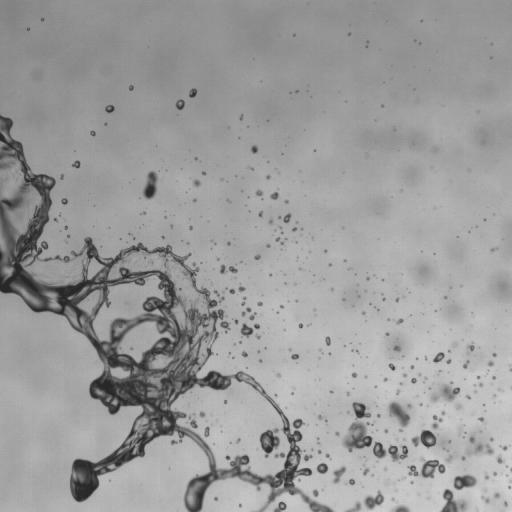droplet: (439, 488, 466, 511), (411, 429, 436, 448), (452, 474, 477, 490), (431, 414, 443, 429), (316, 462, 328, 474), (272, 501, 286, 511), (432, 352, 444, 363), (8, 128, 19, 139), (29, 164, 40, 175), (13, 172, 24, 183), (136, 177, 147, 188), (2, 188, 13, 199), (48, 188, 59, 199), (74, 240, 85, 251), (173, 245, 184, 256), (97, 247, 108, 258), (386, 321, 397, 332), (229, 323, 240, 334), (457, 348, 468, 359), (451, 357, 462, 368), (415, 360, 426, 371), (475, 362, 486, 373), (90, 367, 101, 378), (464, 368, 475, 379), (389, 370, 400, 381), (438, 374, 449, 385), (386, 379, 397, 390), (482, 383, 493, 394), (479, 385, 490, 396), (436, 397, 447, 408), (443, 400, 454, 411), (430, 402, 441, 413), (375, 417, 386, 428), (339, 426, 350, 437), (115, 431, 126, 442), (157, 433, 168, 444), (475, 433, 486, 444), (333, 436, 344, 447), (424, 448, 435, 459), (88, 452, 99, 463), (405, 453, 416, 464), (306, 458, 317, 469), (62, 465, 73, 476), (291, 475, 302, 486), (496, 476, 507, 487), (243, 481, 254, 492), (486, 481, 497, 492), (259, 482, 270, 493), (203, 487, 214, 498), (451, 489, 462, 500), (279, 491, 290, 502), (381, 499, 392, 510), (175, 99, 185, 110), (501, 489, 511, 500), (456, 424, 465, 436), (466, 341, 474, 354), (498, 444, 511, 451), (255, 189, 263, 200), (503, 450, 511, 461), (154, 180, 163, 189), (262, 188, 271, 197), (47, 207, 56, 216), (257, 246, 266, 255), (233, 291, 242, 300), (385, 292, 394, 301), (246, 298, 255, 307), (254, 339, 263, 348), (458, 342, 467, 351), (232, 346, 241, 355), (196, 369, 205, 378), (432, 384, 441, 393), (454, 393, 463, 402), (420, 394, 429, 403), (133, 404, 142, 413), (380, 406, 389, 415), (348, 413, 357, 422), (390, 415, 399, 424), (448, 430, 457, 439), (363, 445, 372, 454), (493, 446, 502, 455), (102, 447, 111, 456), (195, 447, 204, 456), (478, 451, 487, 460), (403, 456, 412, 465), (122, 460, 131, 469), (327, 462, 336, 471), (495, 463, 504, 472), (200, 465, 209, 474), (324, 469, 333, 478), (340, 472, 349, 481), (64, 491, 73, 500), (315, 495, 324, 504), (396, 497, 405, 506), (480, 495, 490, 503), (344, 478, 355, 485), (105, 105, 114, 113), (238, 282, 245, 292), (505, 435, 511, 446), (505, 490, 511, 501), (300, 505, 311, 511), (371, 505, 382, 511), (462, 505, 473, 511), (250, 145, 258, 153), (72, 160, 80, 168), (193, 179, 201, 187), (189, 88, 196, 97), (462, 360, 469, 369), (303, 454, 312, 461), (270, 192, 278, 199), (393, 345, 401, 352), (388, 363, 396, 370), (204, 426, 209, 437), (0, 237, 5, 248), (183, 87, 190, 94), (183, 95, 190, 102), (22, 148, 29, 155), (25, 158, 32, 165), (14, 161, 21, 168), (197, 174, 204, 181), (248, 189, 255, 196), (277, 193, 284, 200), (166, 216, 173, 223), (57, 219, 64, 226), (287, 220, 294, 227), (42, 223, 49, 230), (34, 239, 41, 246), (159, 240, 166, 247), (39, 251, 46, 258), (224, 269, 231, 276), (6, 291, 13, 298), (208, 292, 215, 299), (250, 304, 257, 311), (365, 305, 372, 312), (40, 310, 47, 317), (57, 314, 64, 321), (246, 320, 253, 327), (228, 321, 235, 328), (215, 324, 222, 331), (84, 339, 91, 346), (237, 344, 244, 351), (322, 344, 329, 351), (89, 346, 96, 353), (234, 351, 241, 358), (408, 370, 415, 377), (376, 379, 383, 386), (83, 381, 90, 388), (273, 396, 280, 403), (94, 398, 101, 405), (411, 399, 418, 406), (101, 405, 108, 412), (118, 405, 125, 412), (401, 406, 408, 413), (359, 416, 366, 423), (407, 418, 414, 425), (424, 423, 431, 430), (288, 425, 295, 432), (297, 425, 304, 432), (414, 429, 421, 436), (171, 431, 178, 438), (473, 437, 480, 444), (489, 441, 496, 448), (406, 442, 413, 449), (469, 442, 476, 449), (143, 443, 150, 450), (382, 443, 389, 450), (500, 450, 507, 457), (384, 452, 391, 459), (80, 453, 87, 460), (489, 453, 496, 460), (133, 455, 140, 462), (322, 457, 329, 464), (66, 459, 73, 466), (309, 464, 316, 471), (415, 464, 422, 471), (326, 467, 333, 474), (457, 469, 464, 476), (188, 471, 195, 478), (416, 474, 423, 481), (232, 475, 239, 482), (180, 482, 187, 489), (248, 483, 255, 490), (447, 483, 454, 490), (91, 489, 98, 496), (369, 490, 376, 497), (486, 491, 493, 498), (293, 493, 300, 500), (308, 493, 315, 500), (274, 495, 281, 502), (358, 496, 365, 503), (496, 497, 503, 504), (439, 498, 446, 505), (271, 500, 278, 507), (347, 501, 354, 508), (390, 501, 397, 508), (395, 318, 403, 324), (325, 336, 330, 345), (199, 506, 208, 511), (359, 506, 368, 511), (61, 198, 67, 205), (241, 350, 247, 357), (487, 360, 494, 366), (268, 217, 273, 225), (291, 354, 299, 359), (452, 341, 458, 347), (351, 372, 357, 378), (411, 377, 417, 383), (395, 389, 401, 395), (406, 403, 412, 409), (199, 411, 205, 417), (494, 492, 500, 498), (505, 505, 511, 511), (258, 210, 263, 217), (484, 472, 489, 479), (90, 130, 95, 136), (254, 254, 260, 259), (298, 323, 303, 329), (255, 333, 260, 339), (446, 358, 451, 364), (275, 372, 281, 377), (465, 394, 471, 399), (440, 410, 446, 415), (236, 437, 241, 443), (0, 168, 4, 175), (507, 445, 511, 452), (507, 499, 511, 506), (181, 507, 188, 511), (236, 507, 243, 511), (53, 217, 58, 222), (257, 301, 262, 306), (482, 487, 487, 492), (182, 105, 187, 110), (172, 106, 177, 111), (2, 112, 7, 117), (246, 146, 251, 151), (256, 147, 261, 152), (247, 149, 252, 154), (252, 152, 257, 157), (152, 167, 157, 172), (40, 169, 45, 174), (19, 171, 24, 176), (46, 171, 51, 176), (54, 176, 59, 181), (2, 180, 7, 185), (188, 180, 193, 185), (197, 184, 202, 189), (191, 185, 196, 190), (252, 186, 257, 191), (259, 186, 264, 191), (269, 188, 274, 193), (270, 198, 275, 203), (280, 212, 285, 217), (288, 216, 293, 221), (278, 218, 283, 223), (295, 223, 300, 228), (295, 228, 300, 233), (63, 229, 68, 234), (275, 231, 280, 236), (85, 232, 90, 237), (91, 239, 96, 244), (80, 240, 85, 245), (142, 241, 147, 246), (126, 242, 131, 247), (147, 245, 152, 250), (74, 248, 79, 253), (171, 248, 176, 253), (50, 252, 55, 257), (37, 253, 42, 258), (68, 253, 73, 258), (110, 253, 115, 258), (183, 259, 188, 264), (218, 259, 223, 264), (224, 265, 229, 270), (215, 266, 220, 271), (369, 275, 374, 280), (196, 284, 201, 289), (233, 286, 238, 291), (208, 287, 213, 292), (224, 289, 229, 294), (240, 290, 245, 295), (257, 296, 262, 301), (244, 302, 249, 307), (212, 305, 217, 310), (241, 305, 246, 310), (274, 305, 279, 310), (25, 306, 30, 311), (278, 307, 283, 312), (245, 311, 250, 316), (394, 315, 399, 320), (222, 316, 227, 321), (216, 317, 221, 322), (252, 318, 257, 323), (237, 323, 242, 328), (252, 327, 257, 332), (248, 333, 253, 338), (329, 337, 334, 342), (346, 344, 351, 349), (210, 346, 215, 351), (259, 347, 264, 352), (290, 349, 295, 354), (399, 349, 404, 354), (393, 350, 398, 355), (256, 353, 261, 358), (430, 353, 435, 358), (208, 354, 213, 359), (464, 354, 469, 359), (490, 356, 495, 361), (441, 357, 446, 362), (411, 360, 416, 365), (392, 361, 397, 366), (466, 362, 471, 367), (488, 365, 493, 370), (350, 367, 355, 372), (386, 367, 391, 372), (243, 368, 248, 373), (231, 369, 236, 374), (220, 370, 225, 375), (249, 371, 254, 376), (487, 372, 492, 377), (406, 375, 411, 380), (415, 375, 420, 380), (254, 376, 259, 381), (399, 376, 404, 381), (478, 377, 483, 382), (474, 378, 479, 383), (444, 379, 449, 384), (450, 383, 455, 388), (396, 384, 401, 389), (475, 385, 480, 390), (346, 386, 351, 391), (492, 388, 497, 393), (349, 389, 354, 394), (426, 389, 431, 394), (495, 390, 500, 395), (85, 391, 90, 396), (269, 393, 274, 398), (493, 396, 498, 401), (363, 401, 368, 406), (278, 404, 283, 409), (282, 409, 287, 414), (456, 409, 461, 414), (350, 410, 355, 415), (436, 412, 441, 417), (441, 414, 446, 419), (483, 415, 488, 420), (313, 417, 318, 422), (288, 418, 293, 423), (429, 418, 434, 423), (437, 421, 442, 426), (345, 422, 350, 427), (125, 428, 130, 433), (430, 428, 435, 433), (329, 430, 334, 435), (365, 430, 370, 435), (182, 434, 187, 439), (464, 434, 469, 439), (153, 436, 158, 441), (295, 440, 300, 445), (116, 441, 121, 446), (417, 441, 422, 446), (445, 443, 450, 448), (313, 445, 318, 450), (428, 445, 433, 450), (343, 446, 348, 451), (312, 449, 317, 454), (397, 449, 402, 454), (448, 449, 453, 454), (305, 450, 310, 455), (406, 450, 411, 455), (459, 450, 464, 455), (320, 451, 325, 456), (299, 452, 304, 457), (371, 454, 376, 459), (456, 456, 461, 461), (438, 459, 443, 464), (364, 462, 369, 467), (498, 462, 503, 467), (443, 463, 448, 468), (296, 464, 301, 469), (335, 464, 340, 469), (444, 466, 449, 471), (487, 471, 492, 476), (318, 472, 323, 477), (96, 474, 101, 479), (409, 474, 414, 479), (425, 476, 430, 481), (485, 478, 490, 483), (461, 486, 466, 491), (494, 487, 499, 492), (439, 488, 444, 493), (317, 490, 322, 495), (380, 490, 385, 495), (483, 492, 488, 497), (479, 499, 484, 504), (499, 503, 504, 508), (255, 504, 260, 509), (239, 114, 243, 120), (335, 431, 339, 437), (0, 140, 3, 147), (0, 290, 3, 297), (129, 85, 133, 90), (201, 171, 206, 175), (266, 174, 270, 179), (292, 227, 297, 231), (395, 297, 399, 302), (279, 304, 284, 308), (234, 319, 238, 324), (306, 323, 311, 327), (492, 353, 497, 357), (402, 373, 407, 377), (418, 372, 422, 377), (475, 375, 480, 379), (383, 377, 388, 381), (398, 381, 403, 385), (346, 391, 350, 396), (384, 428, 388, 433), (489, 437, 494, 441), (317, 449, 321, 454), (461, 455, 465, 460), (383, 466, 387, 471), (493, 471, 497, 476), (214, 496, 218, 501), (504, 501, 507, 507), (192, 198, 196, 202), (284, 199, 288, 203), (361, 311, 365, 315), (410, 365, 414, 369), (290, 391, 294, 395), (376, 413, 380, 417), (238, 503, 242, 507), (60, 174, 63, 179), (189, 225, 192, 230), (265, 244, 270, 247), (366, 276, 369, 281), (257, 349, 260, 354), (346, 410, 351, 413), (508, 472, 511, 477), (40, 18, 44, 21), (64, 225, 67, 229), (170, 224, 173, 228), (67, 234, 70, 238), (161, 235, 164, 239), (227, 241, 230, 245), (324, 249, 327, 253), (216, 257, 219, 261), (328, 263, 332, 266), (330, 287, 333, 291), (382, 297, 385, 301), (294, 299, 298, 302), (471, 312, 474, 316), (385, 332, 389, 335), (238, 340, 242, 343), (129, 347, 133, 350), (258, 359, 262, 362), (492, 376, 496, 379), (329, 390, 333, 393), (473, 390, 477, 393), (274, 393, 277, 397), (414, 394, 418, 397), (492, 394, 496, 397), (224, 400, 227, 404), (395, 437, 398, 441), (402, 437, 406, 440), (371, 473, 374, 477), (410, 480, 413, 484), (391, 497, 394, 501), (426, 496, 430, 499), (348, 32, 351, 35), (366, 40, 369, 43), (295, 90, 298, 93), (104, 122, 107, 125), (194, 157, 197, 160), (164, 215, 167, 218), (483, 218, 486, 221), (300, 227, 303, 230), (343, 259, 346, 262), (240, 260, 243, 263), (298, 267, 301, 270), (269, 273, 272, 276), (381, 278, 384, 281), (284, 282, 287, 285), (357, 295, 360, 298), (444, 296, 447, 299), (342, 298, 345, 301), (313, 308, 316, 311), (276, 311, 279, 314), (387, 318, 390, 321), (283, 328, 286, 331), (288, 348, 291, 351), (447, 349, 450, 352), (328, 352, 331, 355), (364, 375, 367, 378), (374, 385, 377, 388), (292, 386, 295, 389), (419, 403, 422, 406), (482, 403, 485, 406), (426, 404, 429, 407), (448, 440, 451, 443), (255, 447, 258, 450), (321, 488, 324, 491), (40, 14, 43, 17), (37, 18, 40, 21), (43, 18, 46, 21), (40, 20, 43, 23), (26, 24, 29, 27), (23, 27, 26, 30), (29, 27, 32, 30), (345, 30, 348, 33), (289, 33, 292, 36), (295, 33, 298, 36), (349, 34, 352, 37), (415, 40, 418, 43), (364, 42, 367, 45), (367, 44, 370, 47), (364, 47, 367, 50), (191, 85, 194, 88), (125, 86, 128, 89), (295, 86, 298, 89), (132, 87, 135, 90), (291, 90, 294, 93), (296, 91, 299, 94), (195, 92, 198, 95), (177, 96, 180, 99), (190, 96, 193, 99), (377, 103, 380, 106), (383, 103, 386, 106), (113, 106, 116, 109), (380, 107, 383, 110), (104, 110, 107, 113), (111, 110, 114, 113), (237, 113, 240, 116), (242, 115, 245, 118), (102, 119, 105, 122), (106, 123, 109, 126), (94, 130, 97, 133), (89, 134, 92, 137), (310, 148, 313, 151), (315, 148, 318, 151), (313, 151, 316, 154), (194, 153, 197, 156), (191, 155, 194, 158), (197, 156, 200, 159), (76, 157, 79, 160), (192, 159, 195, 162), (195, 159, 198, 162), (79, 163, 82, 166), (250, 164, 253, 167), (72, 166, 75, 169), (202, 168, 205, 171), (248, 168, 251, 171), (60, 170, 63, 173), (205, 170, 208, 173), (264, 172, 267, 175), (62, 175, 65, 178), (269, 176, 272, 179), (266, 178, 269, 181), (62, 195, 65, 198), (258, 195, 261, 198), (190, 196, 193, 199), (285, 196, 288, 199), (66, 197, 69, 200), (228, 197, 231, 200), (66, 201, 69, 204), (192, 201, 195, 204), (225, 201, 228, 204), (283, 202, 286, 205), (63, 203, 66, 206), (143, 208, 146, 211), (139, 209, 142, 212), (163, 212, 166, 215), (255, 212, 258, 215), (261, 212, 264, 215), (60, 213, 63, 216), (141, 213, 144, 216), (160, 215, 163, 218), (483, 215, 486, 218), (56, 216, 59, 219), (483, 220, 486, 223), (64, 222, 67, 225), (191, 224, 194, 227), (61, 225, 64, 228), (67, 225, 70, 228), (140, 225, 143, 228), (167, 225, 170, 228), (172, 225, 175, 228), (186, 225, 189, 228), (469, 228, 472, 231), (126, 229, 129, 232), (129, 230, 132, 233), (132, 233, 135, 236), (163, 233, 166, 236), (63, 234, 66, 237), (69, 234, 72, 237), (119, 234, 122, 237), (455, 237, 458, 240), (279, 238, 282, 241), (183, 239, 186, 242), (229, 240, 232, 243), (210, 241, 213, 244), (223, 241, 226, 244), (264, 241, 267, 244), (283, 241, 286, 244), (292, 241, 295, 244), (168, 242, 171, 245), (47, 244, 50, 247), (280, 244, 283, 247), (489, 245, 492, 248), (324, 246, 327, 249), (266, 247, 269, 250), (321, 247, 324, 250), (433, 249, 436, 252), (493, 249, 496, 252), (326, 250, 329, 253), (488, 250, 491, 253), (429, 251, 432, 254), (253, 252, 256, 255), (216, 254, 219, 257), (433, 254, 436, 257), (60, 255, 63, 258), (344, 256, 347, 259), (213, 257, 216, 260), (238, 257, 241, 260), (340, 258, 343, 261), (255, 259, 258, 262), (327, 260, 330, 263), (343, 261, 346, 264), (331, 262, 334, 265), (233, 265, 236, 268), (329, 265, 332, 268), (268, 270, 271, 273), (271, 272, 274, 275), (265, 273, 268, 276), (365, 273, 368, 276), (380, 275, 383, 278), (363, 276, 366, 279), (285, 279, 288, 282), (383, 279, 386, 282), (379, 280, 382, 283), (240, 283, 243, 286), (281, 283, 284, 286), (227, 286, 230, 289), (406, 288, 409, 291), (217, 290, 220, 293), (356, 291, 359, 294), (443, 292, 446, 295), (219, 293, 222, 296), (380, 295, 383, 298), (440, 295, 443, 298), (295, 296, 298, 299), (392, 297, 395, 300), (240, 298, 243, 301), (384, 298, 387, 301), (398, 298, 401, 301), (444, 298, 447, 301), (292, 300, 295, 303), (296, 301, 299, 304), (262, 302, 265, 305), (281, 302, 284, 305), (365, 302, 368, 305), (371, 302, 374, 305), (375, 305, 378, 308), (436, 307, 439, 310), (373, 308, 376, 311), (272, 310, 275, 313), (377, 310, 380, 313), (409, 310, 412, 313), (358, 311, 361, 314), (433, 311, 436, 314), (364, 312, 367, 315), (275, 313, 278, 316), (361, 314, 364, 317), (399, 315, 402, 318), (409, 315, 412, 318), (389, 316, 392, 319), (383, 317, 386, 320), (399, 322, 402, 325), (227, 324, 230, 327), (259, 324, 262, 327), (295, 324, 298, 327), (302, 324, 305, 327), (308, 324, 311, 327), (386, 329, 389, 332), (324, 333, 327, 336), (385, 335, 388, 338), (259, 336, 262, 339), (215, 337, 218, 340), (235, 341, 238, 344), (323, 341, 326, 344), (395, 342, 398, 345), (340, 344, 343, 347), (391, 344, 394, 347), (266, 346, 269, 349), (343, 346, 346, 349), (449, 347, 452, 350), (473, 347, 476, 350), (227, 348, 230, 351), (254, 348, 257, 351), (357, 348, 360, 351), (440, 349, 443, 352), (492, 349, 495, 352), (330, 350, 333, 353), (246, 351, 249, 354), (317, 351, 320, 354), (225, 352, 228, 355), (229, 353, 232, 356), (325, 353, 328, 356), (298, 354, 301, 357), (240, 355, 243, 358), (244, 356, 247, 359), (288, 356, 291, 359), (412, 356, 415, 359), (421, 356, 424, 359), (231, 358, 234, 361), (261, 358, 264, 361), (295, 358, 298, 361), (255, 359, 258, 362), (450, 359, 453, 362), (448, 362, 451, 365), (407, 365, 410, 368), (486, 365, 489, 368), (394, 366, 397, 369), (460, 366, 463, 369), (506, 366, 509, 369), (412, 367, 415, 370), (484, 369, 487, 372), (274, 370, 277, 373), (435, 370, 438, 373), (279, 371, 282, 374), (439, 371, 442, 374), (348, 372, 351, 375), (476, 372, 479, 375), (491, 372, 494, 375), (426, 374, 429, 377), (355, 375, 358, 378), (473, 375, 476, 378), (495, 375, 498, 378), (275, 376, 278, 379), (350, 376, 353, 379), (315, 377, 318, 380), (380, 377, 383, 380), (490, 378, 493, 381), (424, 379, 427, 382), (384, 380, 387, 383), (414, 381, 417, 384), (372, 382, 375, 385), (410, 382, 413, 385), (330, 387, 333, 390), (374, 387, 377, 390), (290, 388, 293, 391), (393, 389, 396, 392), (287, 391, 290, 394), (329, 392, 332, 395), (343, 392, 346, 395), (468, 393, 471, 396), (290, 394, 293, 397), (464, 397, 467, 400), (417, 400, 420, 403), (481, 400, 484, 403), (375, 401, 378, 404), (422, 402, 425, 405), (428, 402, 431, 405), (482, 405, 485, 408), (377, 410, 380, 413), (284, 413, 287, 416), (320, 413, 323, 416), (379, 414, 382, 417), (477, 414, 480, 417), (326, 417, 329, 420), (301, 418, 304, 421), (321, 418, 324, 421), (477, 419, 480, 422), (326, 420, 329, 423), (461, 420, 464, 423), (336, 428, 339, 431), (463, 428, 466, 431), (387, 429, 390, 432), (398, 431, 401, 434), (461, 432, 464, 435), (492, 435, 495, 438), (448, 436, 451, 439), (318, 438, 321, 441), (314, 439, 317, 442), (435, 439, 438, 442), (450, 440, 453, 443), (391, 442, 394, 445), (401, 442, 404, 445), (172, 443, 175, 446), (501, 443, 504, 446), (328, 454, 331, 457), (464, 454, 467, 457), (506, 467, 509, 470), (366, 471, 369, 474), (496, 471, 499, 474), (373, 472, 376, 475), (372, 475, 375, 478), (397, 475, 400, 478), (353, 478, 356, 481), (347, 483, 350, 486), (352, 483, 355, 486), (504, 485, 507, 488), (312, 486, 315, 489), (217, 496, 220, 499), (212, 499, 215, 502), (506, 500, 509, 503), (235, 503, 238, 506), (241, 503, 244, 506), (59, 212, 61, 216), (228, 352, 230, 356), (478, 430, 482, 432), (420, 19, 422, 22), (27, 27, 29, 30), (293, 33, 295, 36), (381, 104, 383, 107), (313, 149, 316, 151), (220, 178, 223, 180), (295, 221, 298, 223), (342, 226, 344, 229), (128, 233, 131, 235), (186, 242, 189, 244), (308, 250, 311, 252), (294, 282, 296, 285), (380, 293, 383, 295), (369, 302, 371, 305), (434, 309, 437, 311), (343, 344, 346, 346), (264, 346, 266, 349), (232, 356, 234, 359), (416, 357, 418, 360), (428, 387, 431, 389), (284, 406, 287, 408), (311, 448, 313, 451), (505, 474, 508, 476), (361, 485, 364, 487), (509, 371, 511, 374), (509, 483, 511, 486), (509, 487, 511, 490), (419, 42, 421, 44), (365, 45, 367, 47), (267, 160, 269, 162), (165, 169, 167, 171), (234, 175, 236, 177), (277, 188, 279, 190), (400, 189, 402, 191), (241, 190, 243, 192), (247, 196, 249, 198), (248, 210, 250, 212), (274, 229, 276, 231), (468, 230, 470, 232), (133, 237, 135, 239), (295, 241, 297, 243), (100, 245, 102, 247), (280, 248, 282, 250), (313, 274, 315, 276), (449, 286, 451, 288), (260, 313, 262, 315), (409, 314, 411, 316), (233, 343, 235, 345), (359, 342, 361, 344), (402, 355, 404, 357), (318, 357, 320, 359), (352, 364, 354, 366), (401, 366, 403, 368), (487, 369, 489, 371), (352, 387, 354, 389), (376, 429, 378, 431), (220, 430, 222, 432), (462, 436, 464, 438), (229, 441, 231, 443), (212, 443, 214, 445), (414, 39, 415, 41), (490, 57, 492, 58), (289, 92, 291, 93), (281, 153, 283, 154), (245, 204, 246, 206), (493, 213, 494, 215), (119, 238, 121, 239), (421, 250, 422, 252), (433, 253, 435, 254), (297, 256, 298, 258), (200, 262, 202, 263), (355, 273, 356, 275), (234, 277, 236, 278), (216, 353, 217, 355), (319, 378, 320, 380), (371, 431, 372, 433), (238, 137, 239, 138), (457, 236, 458, 237), (126, 242, 127, 243), (353, 305, 354, 306), (350, 342, 351, 343), (485, 410, 486, 411)
ligament: (406, 454, 456, 478), (344, 489, 384, 511), (387, 401, 410, 432), (142, 170, 158, 199), (464, 442, 494, 456), (496, 454, 511, 473), (332, 466, 346, 483), (389, 502, 411, 511), (219, 264, 237, 274), (317, 414, 327, 425), (222, 287, 235, 294), (241, 307, 251, 316), (477, 416, 487, 424), (248, 312, 257, 320), (469, 432, 475, 443), (241, 296, 246, 306), (473, 382, 483, 387), (278, 225, 283, 234), (358, 456, 367, 461), (397, 476, 406, 481), (422, 376, 428, 383), (325, 453, 331, 460), (351, 349, 359, 354), (442, 447, 449, 452), (508, 478, 511, 489), (316, 437, 320, 445), (210, 239, 216, 244), (373, 306, 379, 311), (318, 348, 323, 354), (139, 211, 146, 215), (490, 247, 497, 251), (226, 198, 231, 203), (248, 166, 254, 170), (508, 364, 511, 371), (437, 370, 441, 375), (497, 388, 503, 391), (374, 401, 377, 407), (133, 260, 137, 264), (424, 355, 427, 360), (347, 267, 351, 270), (373, 274, 376, 277), (484, 373, 487, 376), (476, 507, 478, 511), (510, 385, 511, 389)
